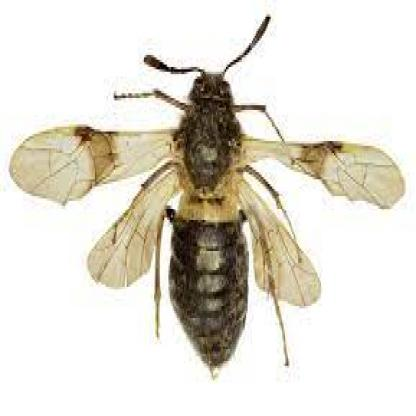sawfly: (8, 11, 407, 377)
